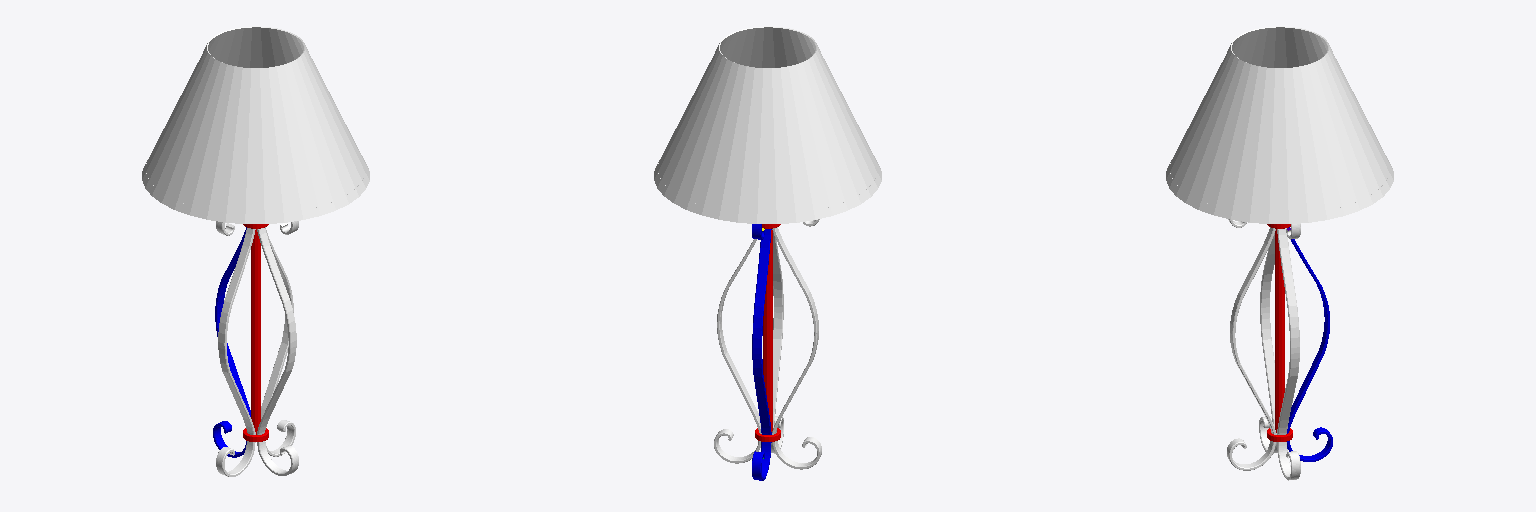
The model's file is dlamp_tris.obj.
3 renders of one model, left to right at view 1: azimuth 30°, elevation 25°; view 2: azimuth 150°, elevation 25°; view 3: azimuth 270°, elevation 25°, orthographic.
Visible parts, largest first — view 1: Lamp Shade Main Mesh, Lamp FootLamp Feet FeetDeco Mesh, Lamp FootLamp Feet Feet4 Mesh, Lamp Shade Edge Bottom Mesh, Lamp FootLamp Shaft Mesh, Lamp Shade Edge Top Mesh, Lamp FootLamp Feet Feet3 Mesh, Lamp FootLamp Feet Feet2 Mesh; view 2: Lamp Shade Main Mesh, Lamp FootLamp Feet Feet2 Mesh, Lamp Shade Edge Bottom Mesh, Lamp Shade Edge Top Mesh, Lamp FootLamp Feet FeetDeco Mesh, Lamp FootLamp Feet Feet3 Mesh, Lamp FootLamp Feet Feet4 Mesh, Lamp FootLamp Shaft Mesh; view 3: Lamp Shade Main Mesh, Lamp FootLamp Feet Feet3 Mesh, Lamp Shade Edge Bottom Mesh, Lamp FootLamp Feet Feet4 Mesh, Lamp FootLamp Feet FeetDeco Mesh, Lamp Shade Edge Top Mesh, Lamp FootLamp Shaft Mesh, Lamp FootLamp Feet Feet2 Mesh.
Part boxes in pixels (x1,y1,x2,y2): Lamp Shade Main Mesh: (146,33,365,214); Lamp FootLamp Feet FeetDeco Mesh: (216,221,255,476); Lamp FootLamp Feet Feet4 Mesh: (257,221,298,475); Lamp Shade Edge Bottom Mesh: (142,156,369,223); Lamp FootLamp Shaft Mesh: (251,229,260,434); Lamp Shade Edge Top Mesh: (203,26,308,76); Lamp FootLamp Feet Feet3 Mesh: (261,227,295,456); Lamp FootLamp Feet Feet2 Mesh: (213,227,250,457); Lamp Shade Main Mesh: (658,33,877,214); Lamp FootLamp Feet Feet2 Mesh: (752,224,771,480); Lamp Shade Edge Bottom Mesh: (654,156,881,223); Lamp Shade Edge Top Mesh: (715,26,820,76); Lamp FootLamp Feet FeetDeco Mesh: (772,219,821,469); Lamp FootLamp Feet Feet3 Mesh: (714,239,761,463); Lamp FootLamp Feet Feet4 Mesh: (771,233,783,453); Lamp FootLamp Shaft Mesh: (763,230,772,431); Lamp Shade Main Mesh: (1170,33,1389,214); Lamp FootLamp Feet Feet3 Mesh: (1277,224,1300,480); Lamp Shade Edge Bottom Mesh: (1166,156,1393,223); Lamp FootLamp Feet Feet4 Mesh: (1227,219,1276,470); Lamp FootLamp Feet FeetDeco Mesh: (1259,235,1277,453); Lamp Shade Edge Top Mesh: (1227,26,1332,76); Lamp FootLamp Shaft Mesh: (1275,229,1284,432); Lamp FootLamp Feet Feet2 Mesh: (1287,227,1332,461).
Size of the model in its own units: 34.69 by 70.05 by 34.69.